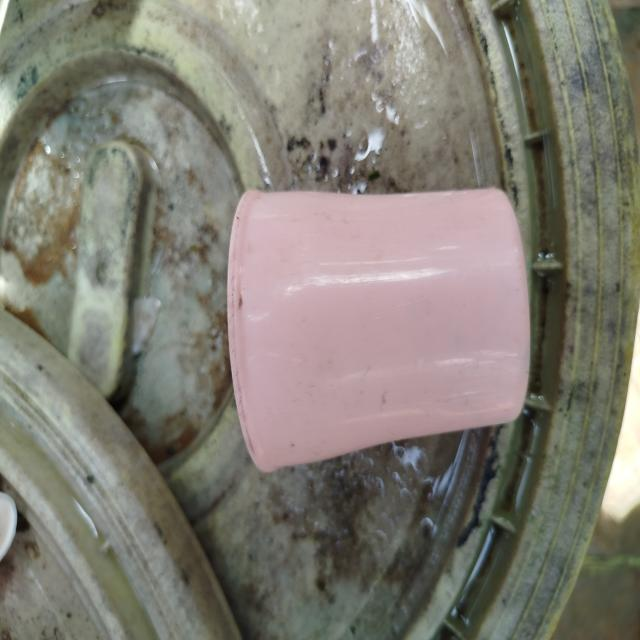plastic: (208, 170, 540, 474)
